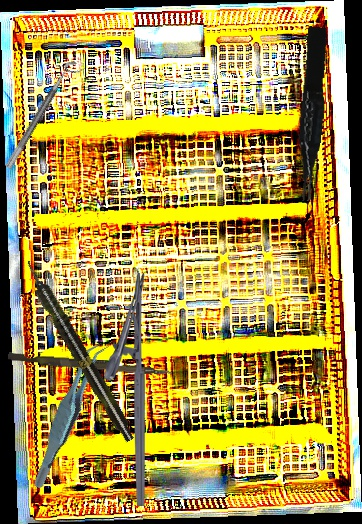Fixation Ring: (4, 58, 85, 175)
Handpiece: (19, 257, 139, 445)
Needle Holder: (103, 273, 147, 506)
Pusher: (7, 352, 173, 376)
Tissue Forceps: (3, 336, 134, 492), (287, 26, 335, 202)
